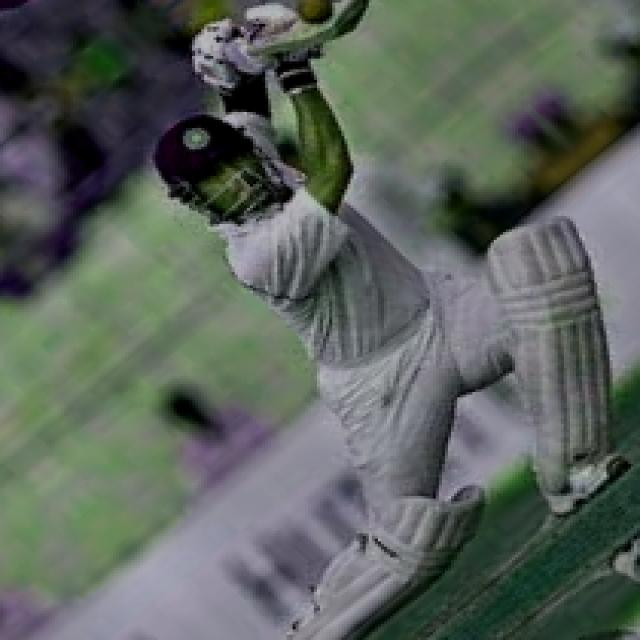toe: (292, 0, 369, 41)
